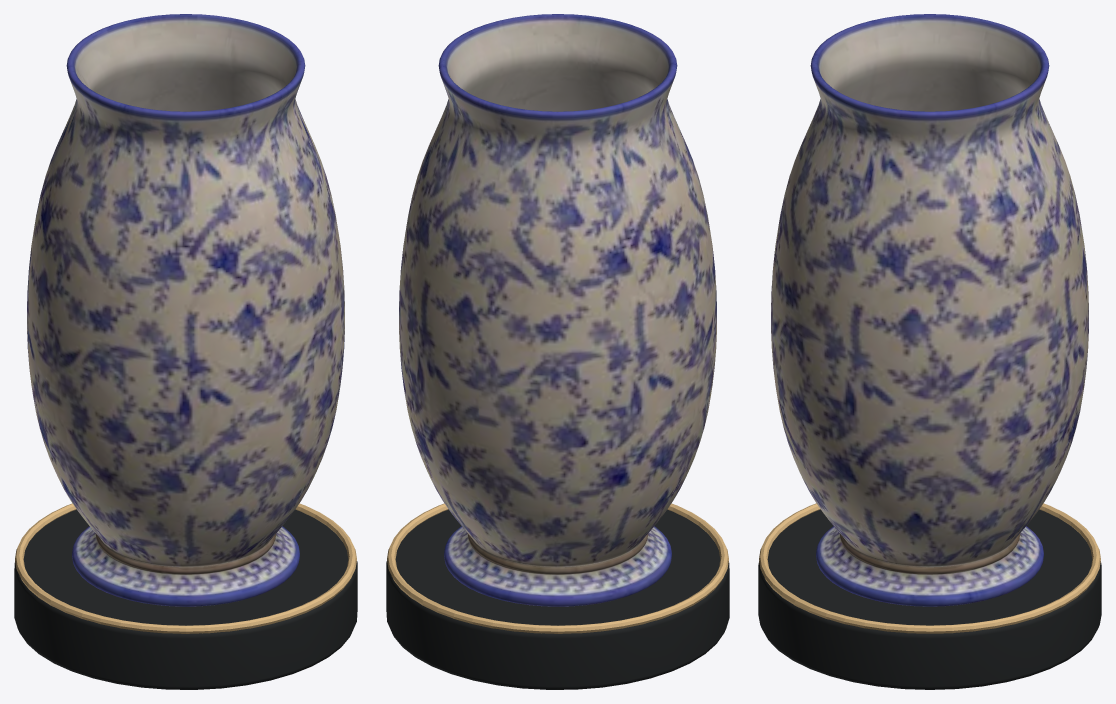
The model's file is hp_room_cc0_antique_ceramic_vase_01.glb.
The picture shows the model from 3 angles, left to right: view 1: azimuth 30°, elevation 25°; view 2: azimuth 150°, elevation 25°; view 3: azimuth 270°, elevation 25°; orthographic projection.
Visible parts, largest first — view 1: antique_ceramic_vase_01, hp_museum_low_black_plinth, hp_museum_plinth_brass_lip; view 2: antique_ceramic_vase_01, hp_museum_low_black_plinth, hp_museum_plinth_brass_lip; view 3: antique_ceramic_vase_01, hp_museum_low_black_plinth, hp_museum_plinth_brass_lip.
Part boxes in pixels (x1=…): antique_ceramic_vase_01: x1=27, y1=14, x2=344, y2=606; hp_museum_low_black_plinth: x1=14, y1=509, x2=357, y2=689; hp_museum_plinth_brass_lip: x1=15, y1=503, x2=356, y2=633; antique_ceramic_vase_01: x1=399, y1=14, x2=716, y2=606; hp_museum_low_black_plinth: x1=386, y1=509, x2=729, y2=689; hp_museum_plinth_brass_lip: x1=387, y1=503, x2=728, y2=633; antique_ceramic_vase_01: x1=771, y1=14, x2=1088, y2=606; hp_museum_low_black_plinth: x1=758, y1=509, x2=1101, y2=689; hp_museum_plinth_brass_lip: x1=759, y1=503, x2=1100, y2=633.
Size of the model in its own units: 0.6266 by 1.12 by 0.6266.
Materials: 3 (1 with a texture image).
